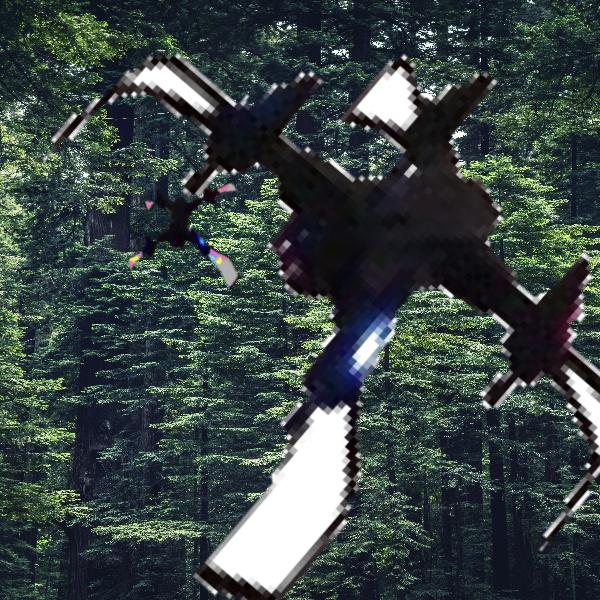drone: (118, 175, 262, 319)
